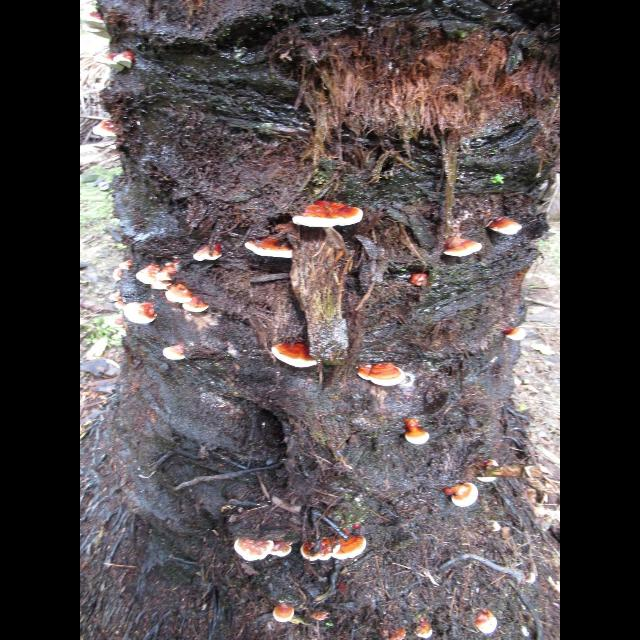ganoderma: (293, 201, 364, 230), (359, 361, 406, 388), (273, 344, 320, 370), (245, 236, 294, 260), (331, 535, 369, 563), (137, 264, 176, 291), (234, 539, 277, 563), (95, 52, 137, 74), (124, 302, 158, 326), (445, 238, 483, 259), (82, 11, 109, 40), (404, 418, 431, 446), (302, 540, 333, 563), (193, 242, 225, 263), (477, 459, 502, 484), (451, 485, 479, 507), (489, 218, 523, 236), (166, 284, 195, 305), (476, 609, 499, 635), (93, 119, 119, 139), (183, 296, 211, 314), (413, 618, 435, 640), (274, 604, 296, 624), (164, 343, 188, 361), (270, 541, 294, 559), (502, 328, 528, 343), (381, 627, 409, 640), (411, 273, 432, 289), (119, 261, 135, 272), (113, 269, 123, 283), (108, 293, 122, 303), (114, 319, 125, 329), (115, 302, 125, 313)
